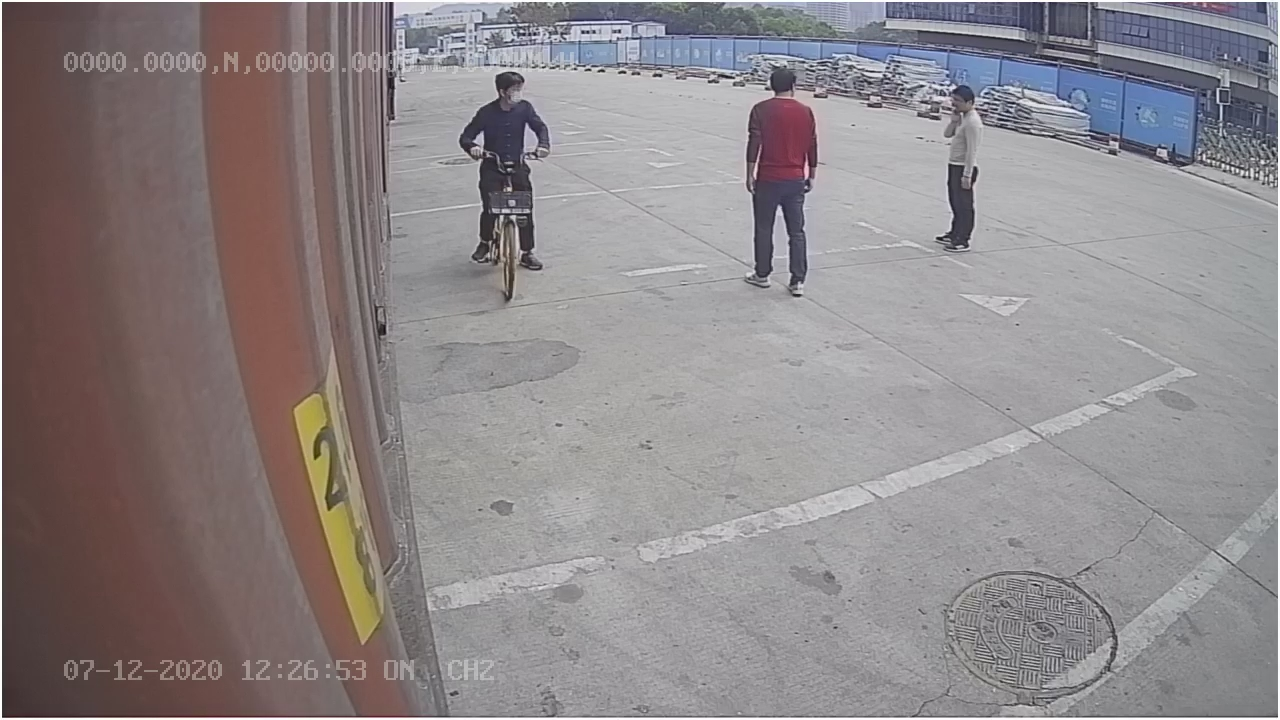person: (738, 62, 822, 295)
